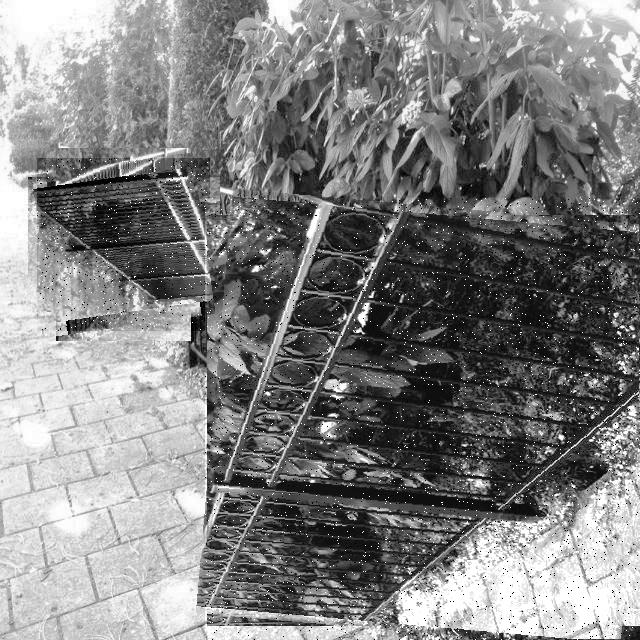fences: (205, 198, 640, 640), (37, 158, 210, 331)
